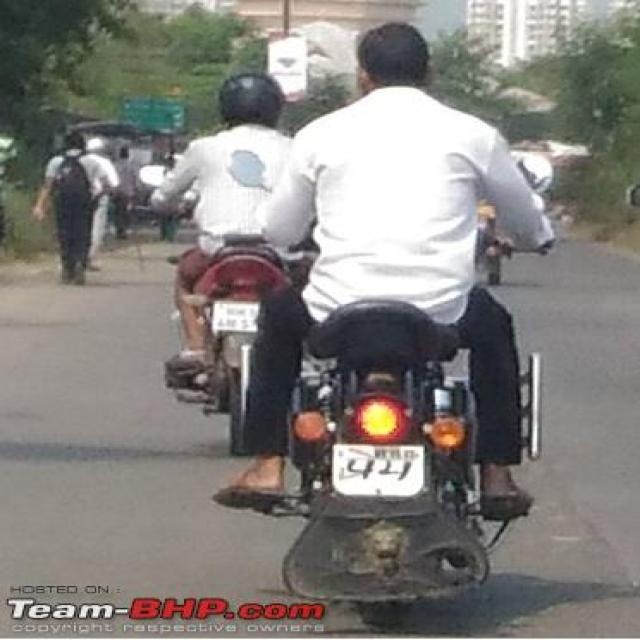license_plate: (327, 440, 428, 500)
